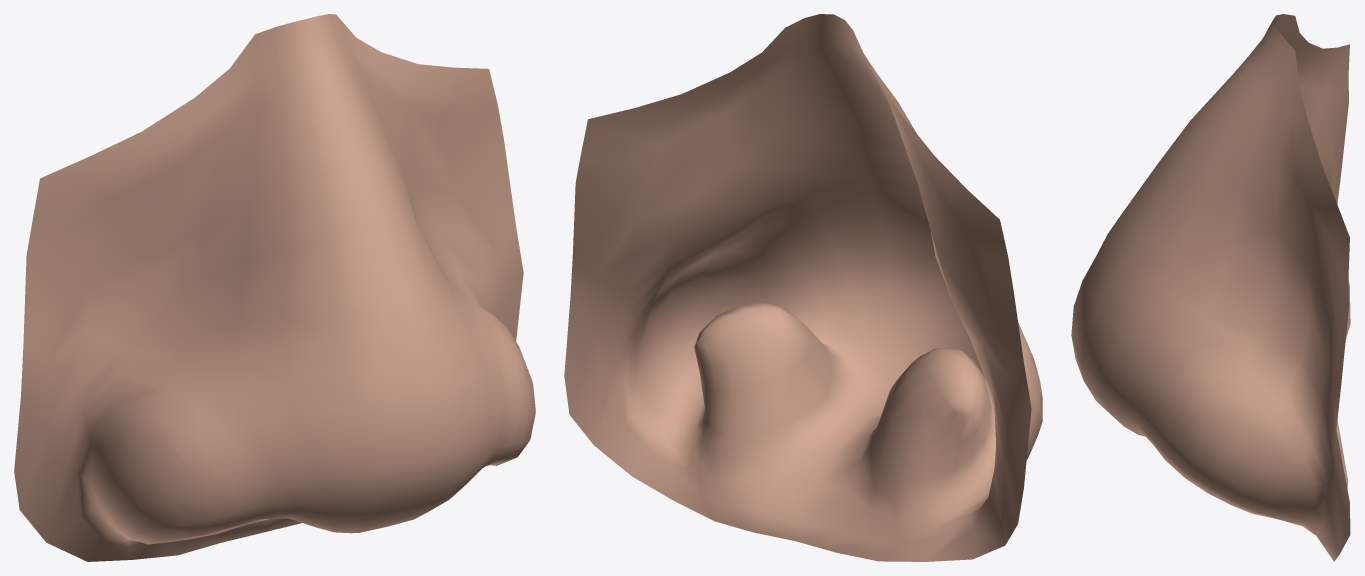
File: nose_3.fbx
The picture shows the model from 3 angles, left to right: view 1: azimuth 30°, elevation 25°; view 2: azimuth 150°, elevation 25°; view 3: azimuth 270°, elevation 25°; orthographic projection. The views are drawn at different scales.
Parts seen in each view (by area): view 1: pasted__nose; view 2: pasted__nose; view 3: pasted__nose.
Boxes of the visible parts, box(x1,y1,x2,y2) form: pasted__nose: box(14, 14, 535, 561); pasted__nose: box(564, 14, 1042, 561); pasted__nose: box(1071, 14, 1350, 561).
Bounding box in the file's own units: 0.0983 × 0.1018 × 0.0536.
